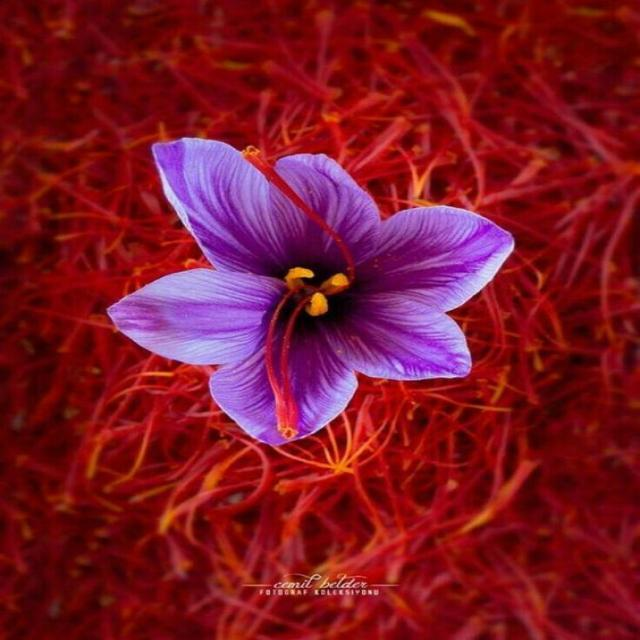Flower: (106, 137, 517, 444)
stigma: (235, 148, 357, 274), (280, 293, 316, 442), (261, 286, 293, 432)
